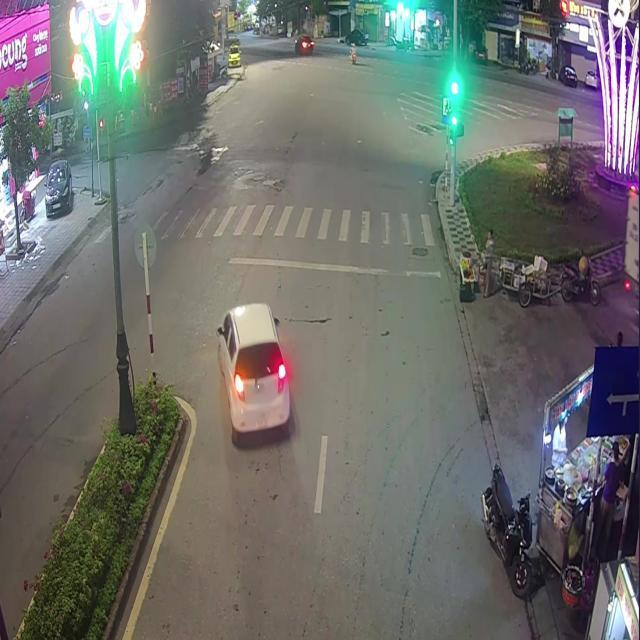car: (216, 302, 291, 442), (294, 34, 313, 54)
green_light: (450, 92, 457, 125)
motobike: (480, 463, 531, 597)
stop_line: (226, 256, 440, 277)
